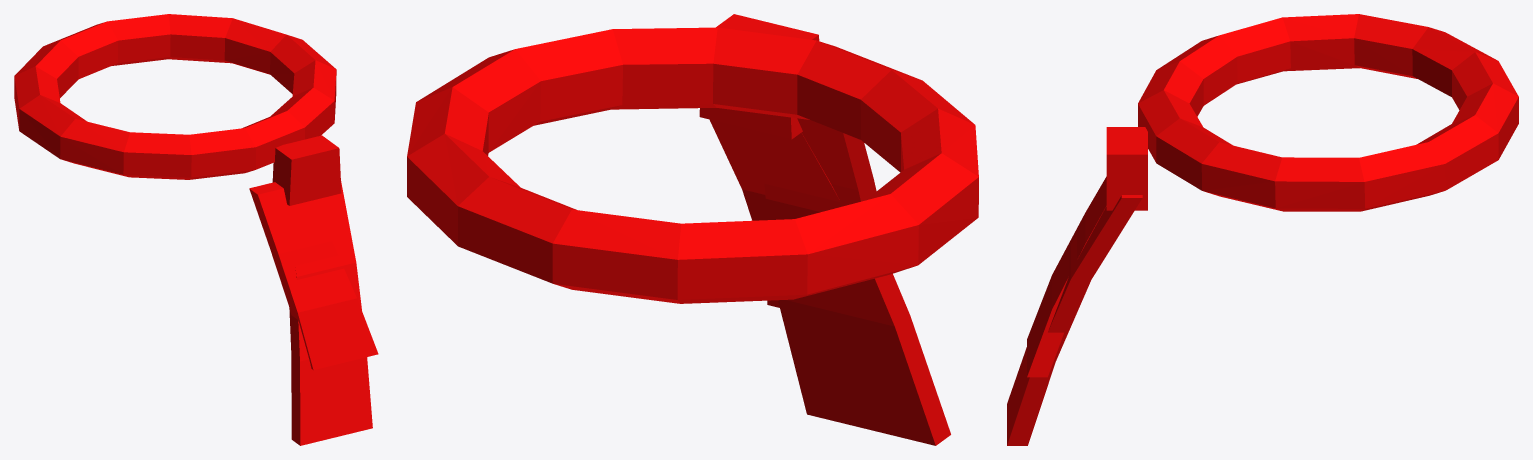
Rendered from neck_scarf_01.glb.
The picture shows the model from 3 angles, left to right: view 1: azimuth 30°, elevation 25°; view 2: azimuth 150°, elevation 25°; view 3: azimuth 270°, elevation 25°; orthographic projection. The views are drawn at different scales.
Visible parts, largest first — view 1: neck_scarf_01; view 2: neck_scarf_01; view 3: neck_scarf_01.
Boxes of the visible parts, left/top/right/bottom form: neck_scarf_01: left=14, top=14, right=378, bottom=445; neck_scarf_01: left=407, top=14, right=978, bottom=445; neck_scarf_01: left=1007, top=14, right=1518, bottom=445.
Size of the model in its own units: 0.207 by 0.1908 by 0.2711.
Materials: 1 (1 with a texture image).
